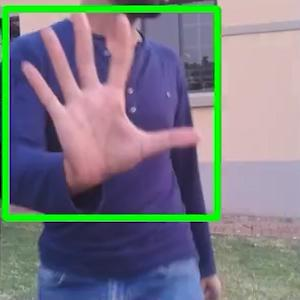follow_hand: (18, 0, 203, 191)
